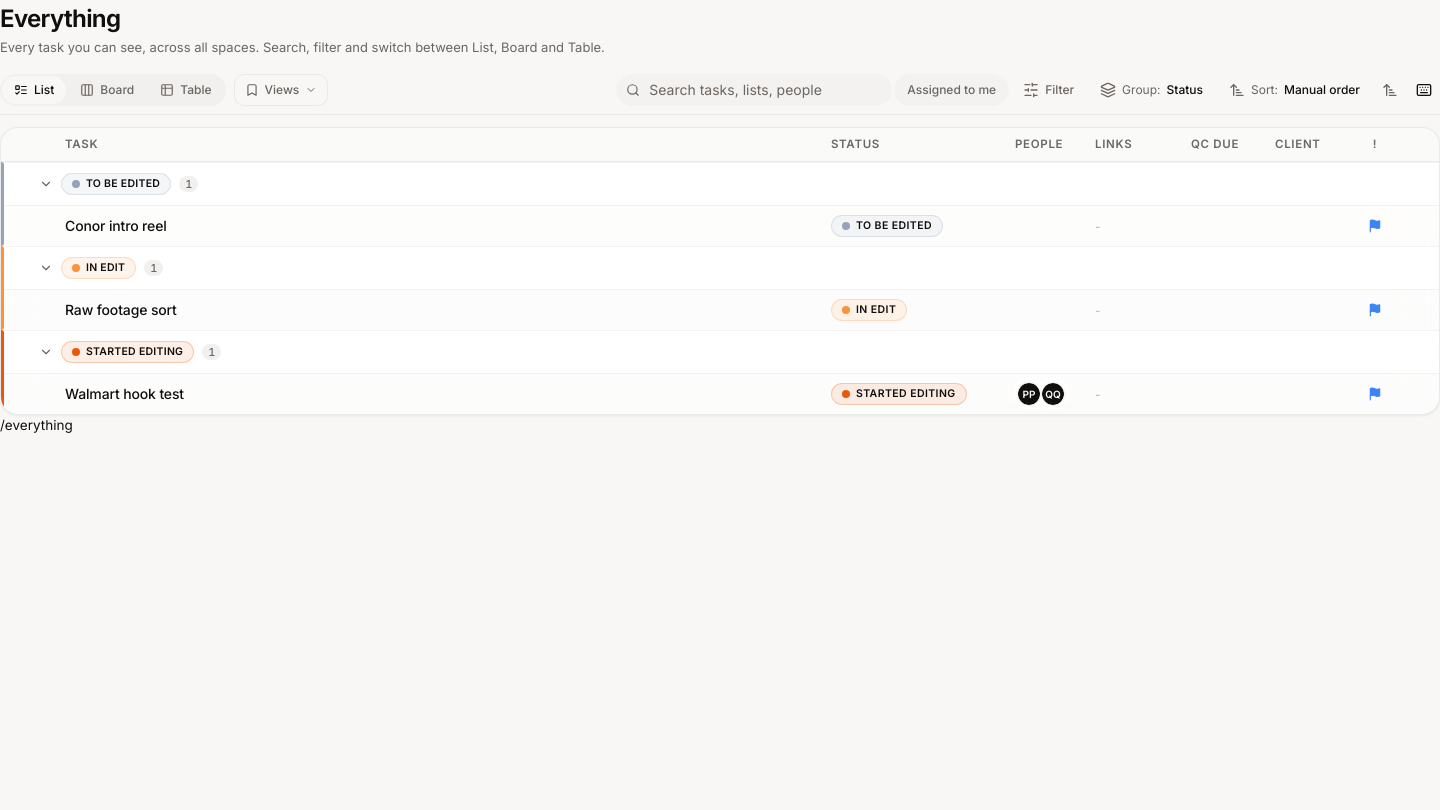
Everything: every task the person can see › can narrow by space, folder and list, with the names as they are in the hierarchy
The width and height of the screenshot is (1440, 810).
Expected: the link "Walmart hook test" is shown, [65,383,184,404]
Click the button "Filter" at [1049, 90], box [1011,74,1086,106]
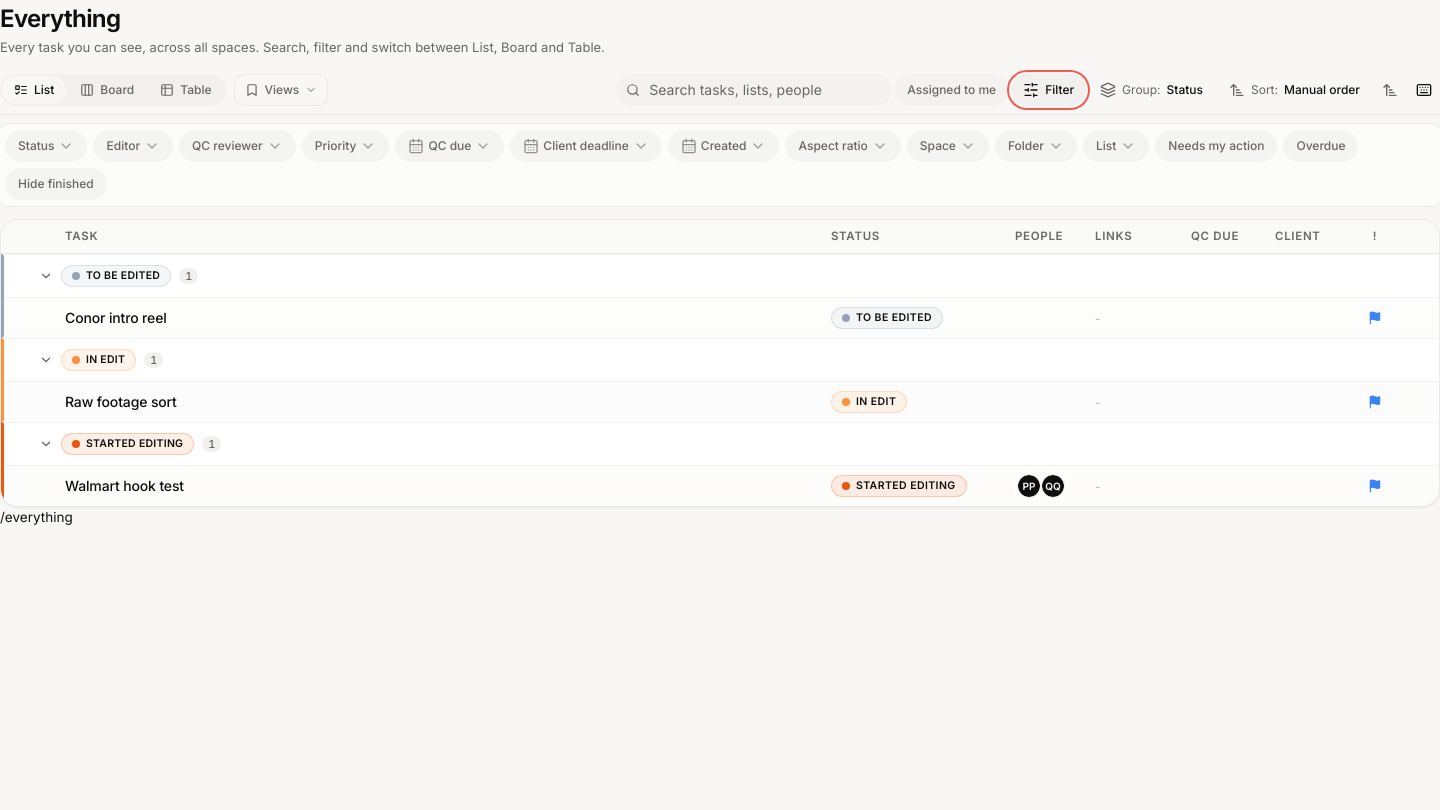
Click the button with aria-label "List filter" at [1116, 146], box [1083,130,1149,162]
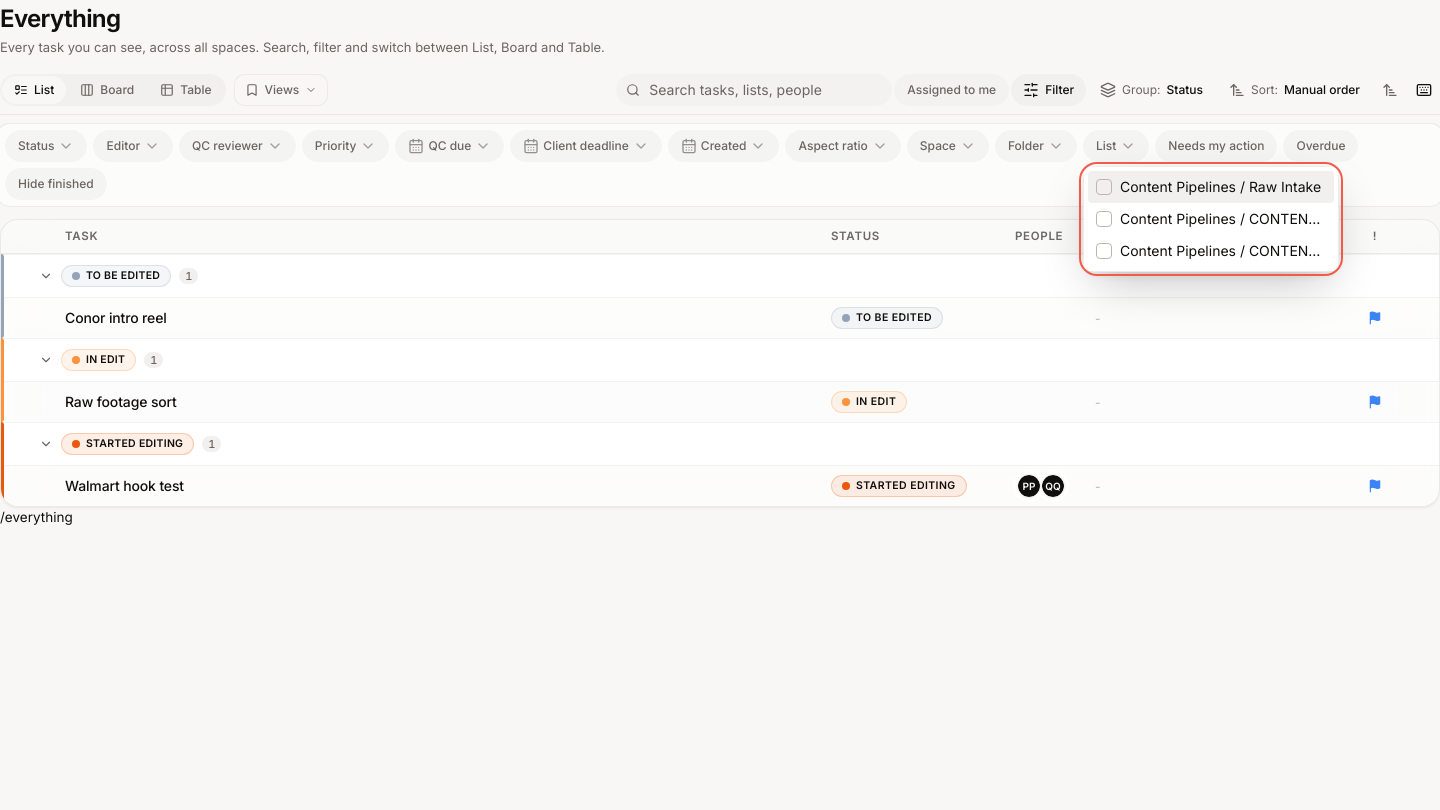
Click the option "Content Pipelines / CONTENT PIPELINE - ZIM / 2. CONOR CONTENT" at [1268, 250], box [1096,242,1439,259]
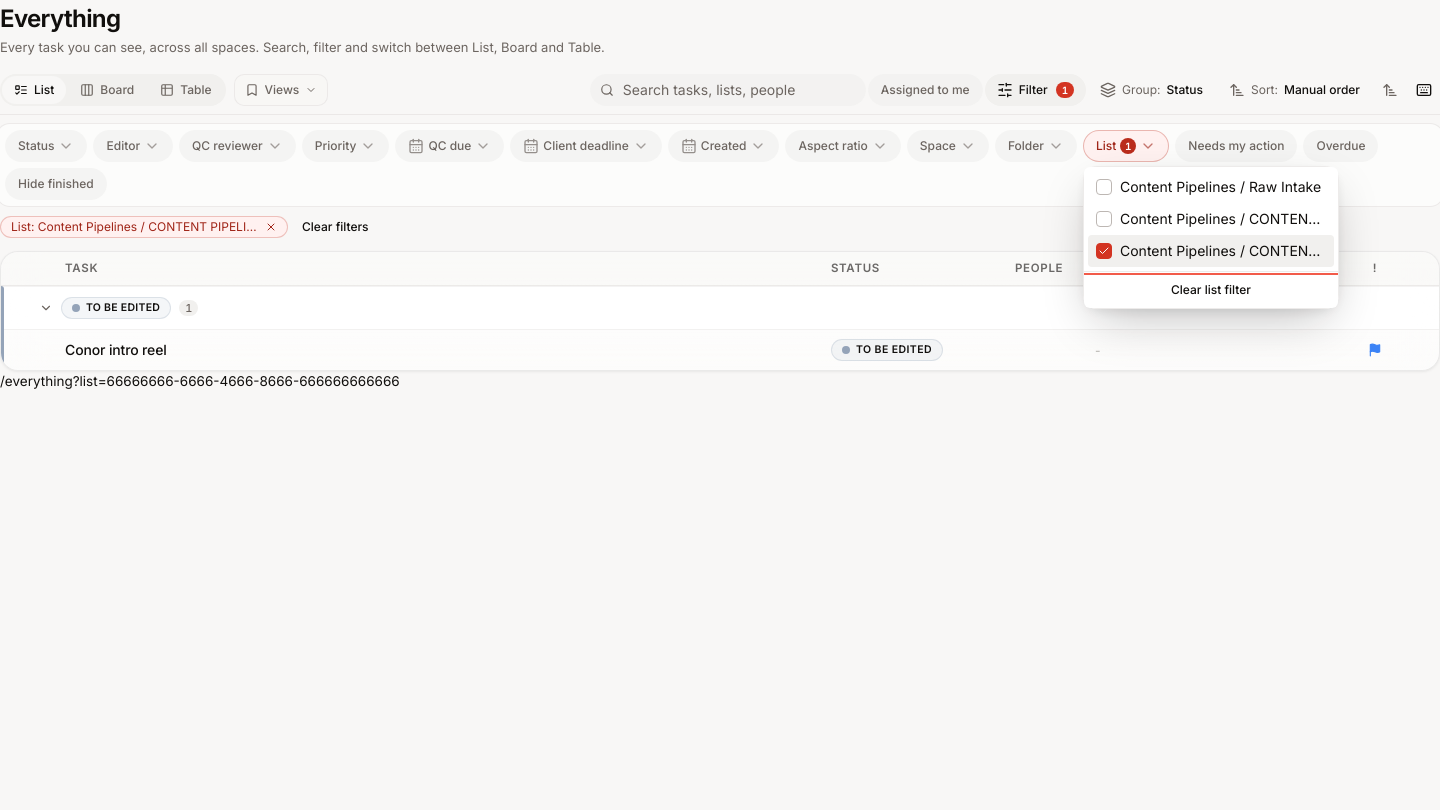
Press Escape
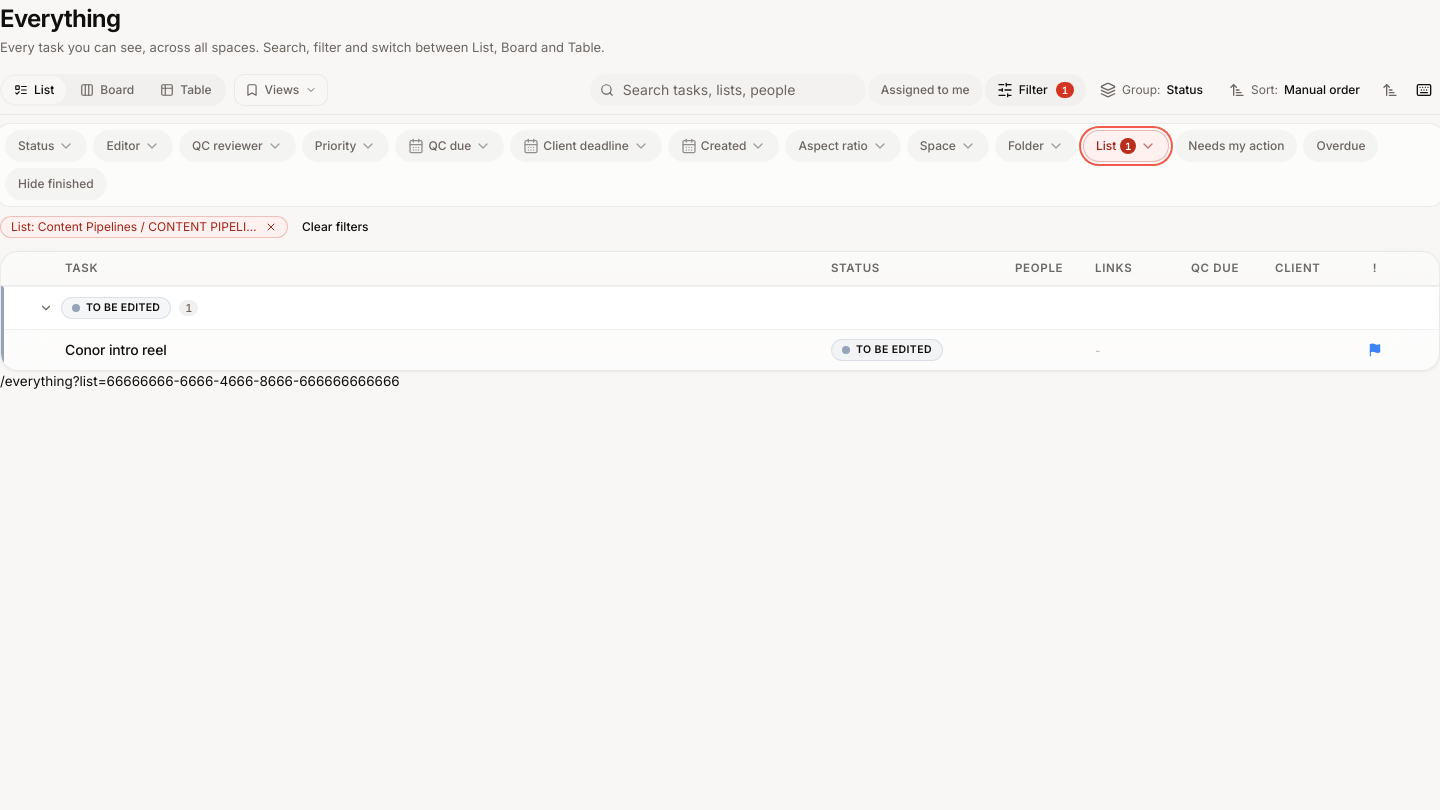
Expected: the button named "Remove filter: List: Content Pipelines / CONTENT PIPELINE - ZIM / 2. CONOR CONTENT" is shown, [0,216,288,238]
Click the button with aria-label "Space filter" at [948, 146], box [907,130,989,162]
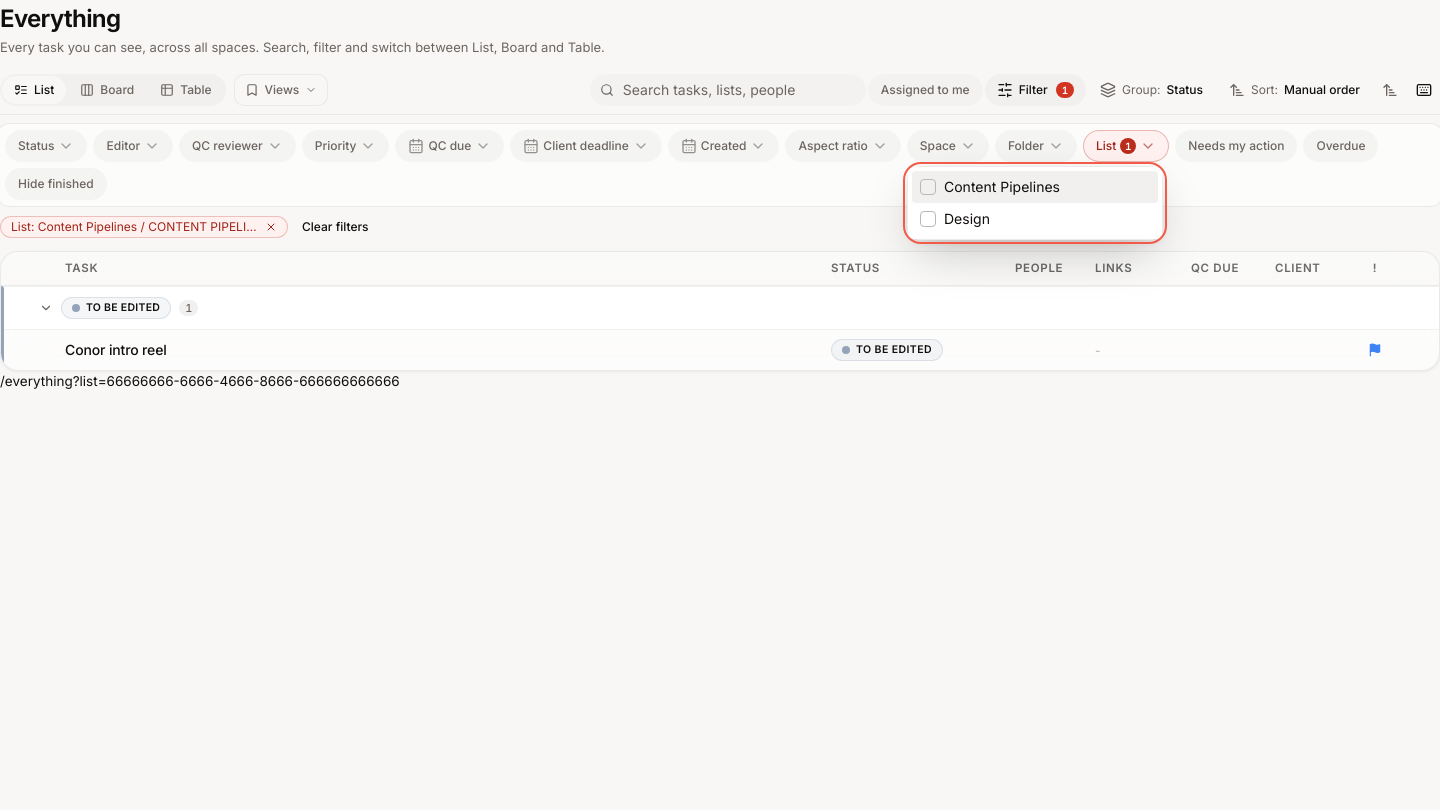
Expected: the options read "Content Pipelines", "Design", in this order, [912,171,1158,203]; [920,210,990,227]
